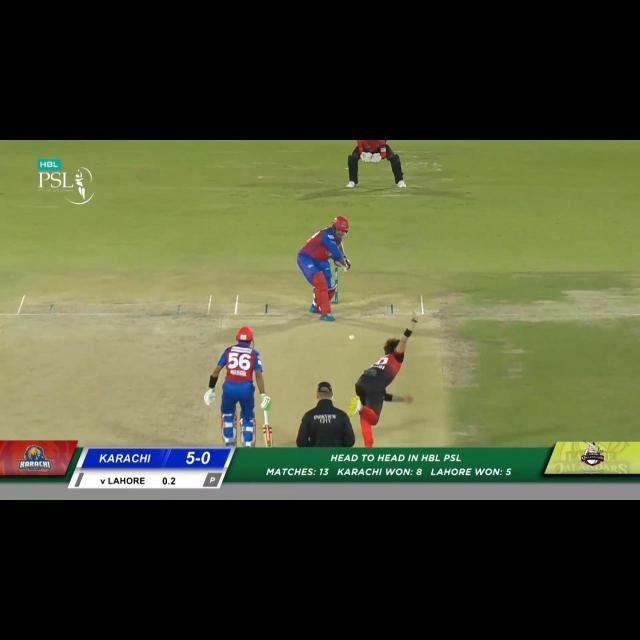bat: (262, 426, 276, 448), (337, 243, 345, 256)
